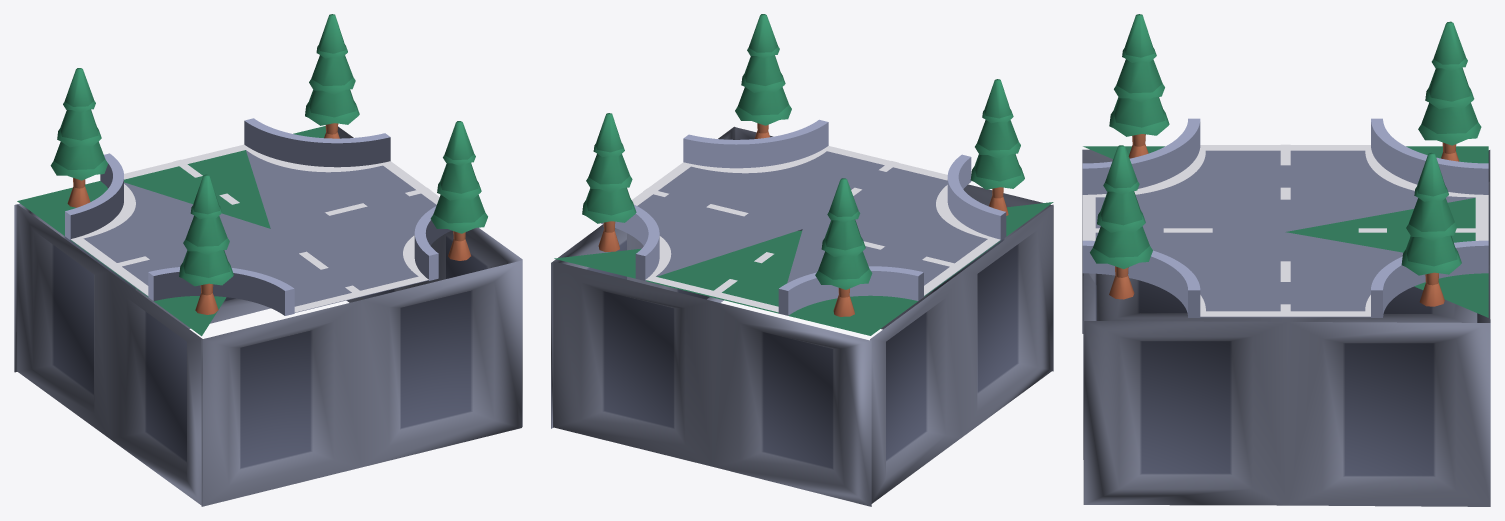
Rendered from elev-thin-4-way.glb.
The picture shows the model from 3 angles, left to right: view 1: azimuth 30°, elevation 25°; view 2: azimuth 150°, elevation 25°; view 3: azimuth 270°, elevation 25°; orthographic projection. The views are drawn at different scales.
Parts seen in each view (by area): view 1: track-corner.006; view 2: track-corner.006; view 3: track-corner.006.
Boxes of the visible parts, x1=… form: track-corner.006: x1=14, y1=14, x2=522, y2=506; track-corner.006: x1=551, y1=14, x2=1053, y2=506; track-corner.006: x1=1082, y1=14, x2=1490, y2=506.
Bounding box in the file's own units: 10.1 × 9.12 × 10.06.
7 materials, 7 textured.
